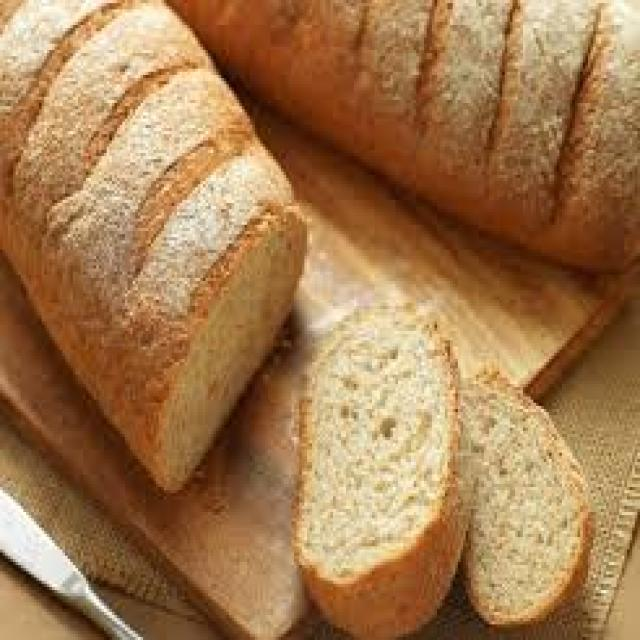organic waste: (0, 0, 304, 490), (153, 0, 637, 268), (294, 300, 476, 637), (458, 365, 590, 634)
